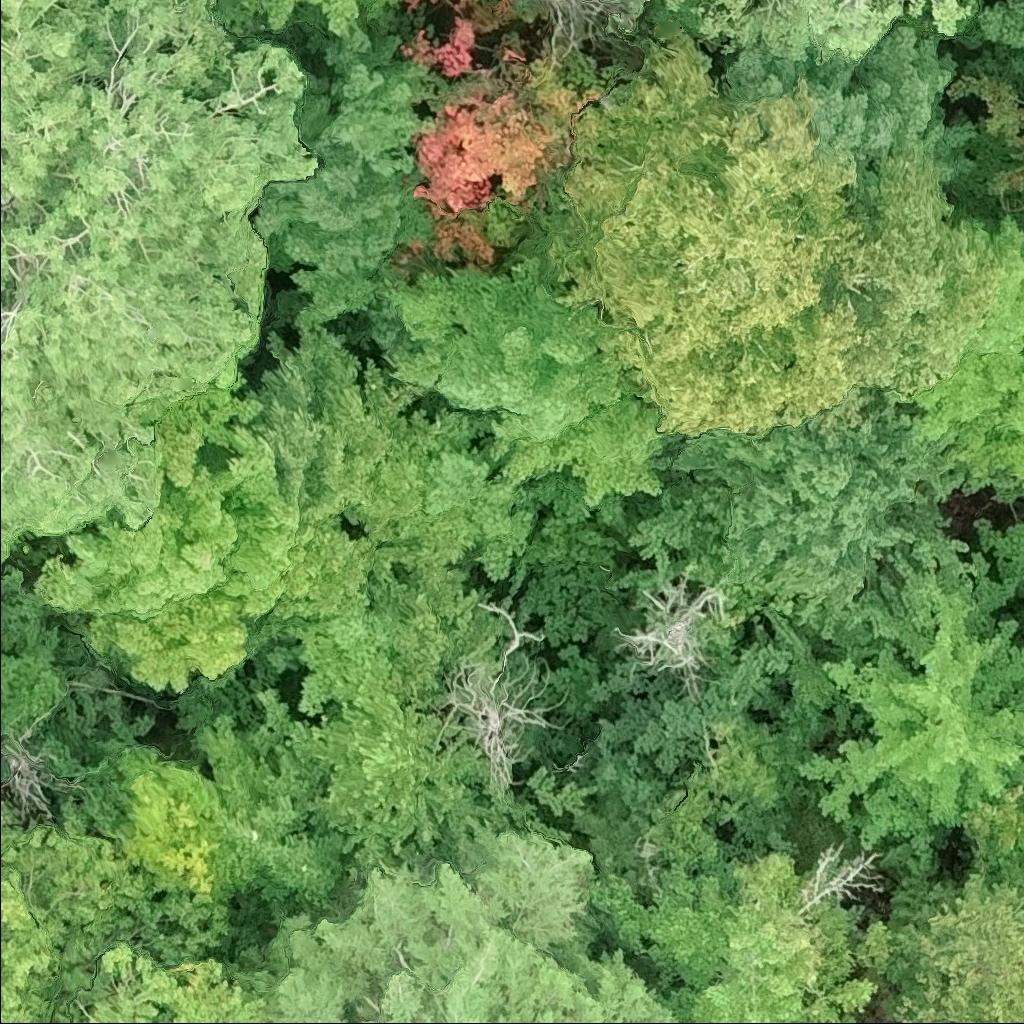crown: (530, 30, 995, 440), (0, 0, 324, 577), (30, 389, 380, 694), (239, 822, 681, 1023), (372, 236, 670, 508), (796, 553, 1023, 853), (257, 3, 454, 336), (0, 805, 263, 1023), (596, 848, 891, 1023), (304, 670, 491, 888), (911, 211, 1023, 502), (888, 866, 1023, 1023), (663, 0, 979, 57), (964, 75, 1023, 201), (959, 783, 1023, 884), (260, 0, 408, 36), (977, 0, 1023, 85), (222, 0, 267, 31)
